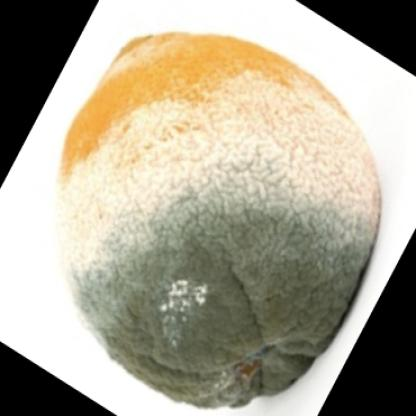rotten: (59, 34, 383, 409)
